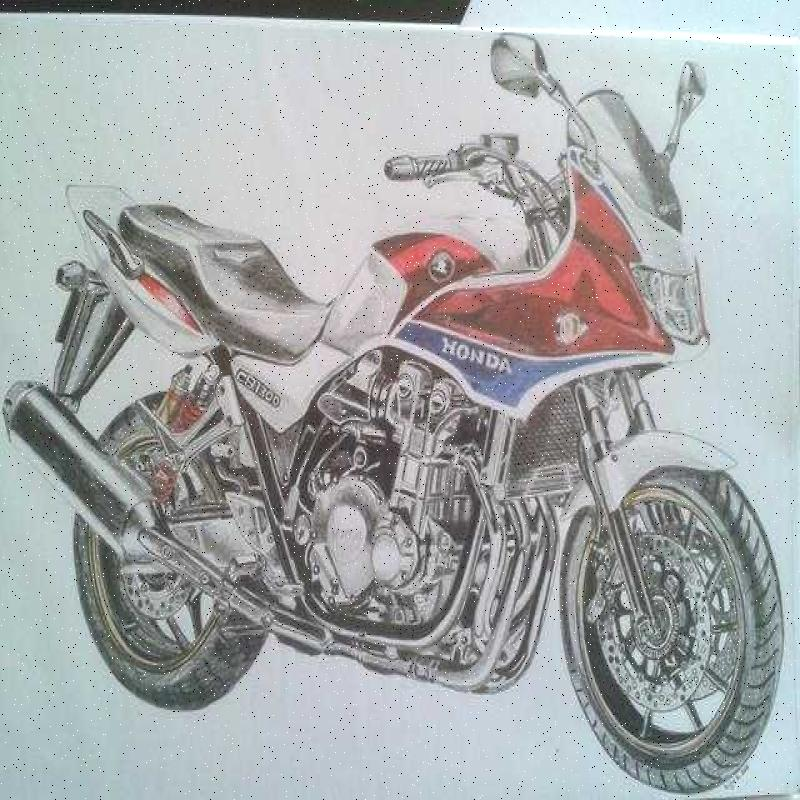bike: (27, 33, 785, 800)
